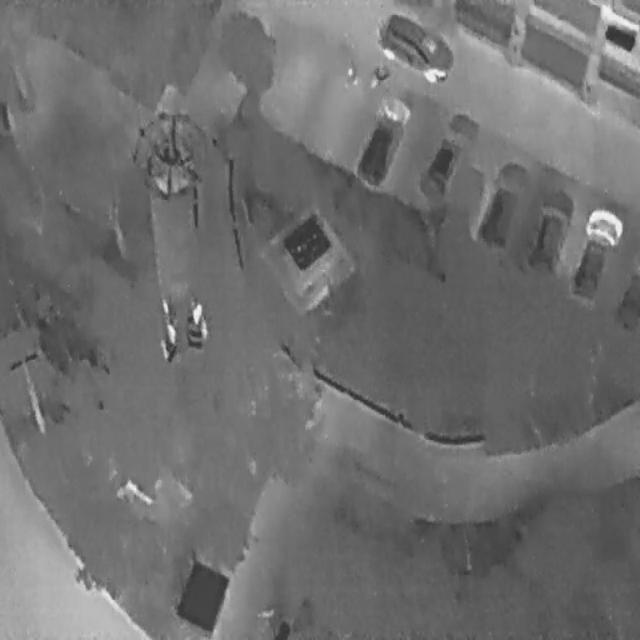Car: (369, 0, 461, 92), (348, 86, 417, 195), (470, 150, 538, 258), (416, 104, 481, 206), (565, 200, 628, 304), (520, 181, 580, 280), (616, 258, 638, 328)
Person: (370, 59, 390, 90), (343, 59, 358, 89)
